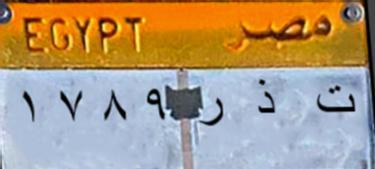1: (21, 84, 40, 126)
7: (57, 86, 86, 126)
8: (99, 86, 130, 128)
9: (140, 84, 168, 126)
raa: (199, 95, 231, 132)
taa: (310, 83, 362, 119)
zaal: (249, 76, 282, 127)
